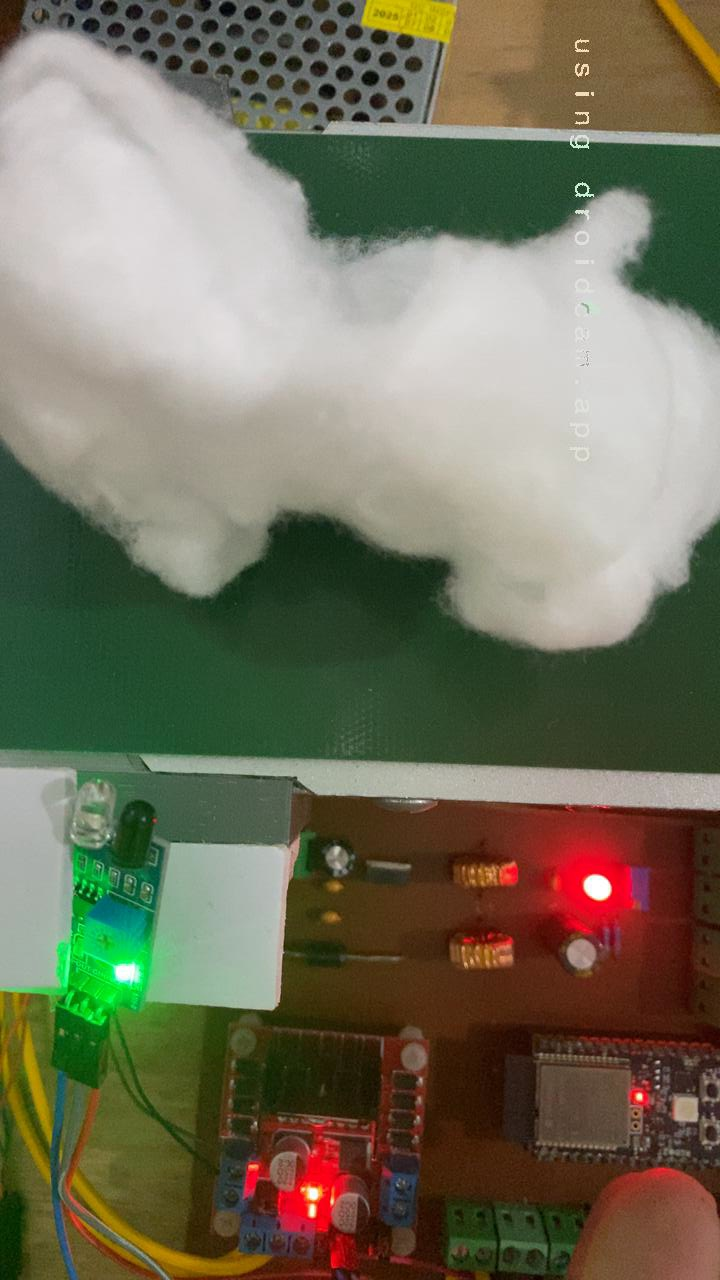cotton: (0, 140, 720, 661)
